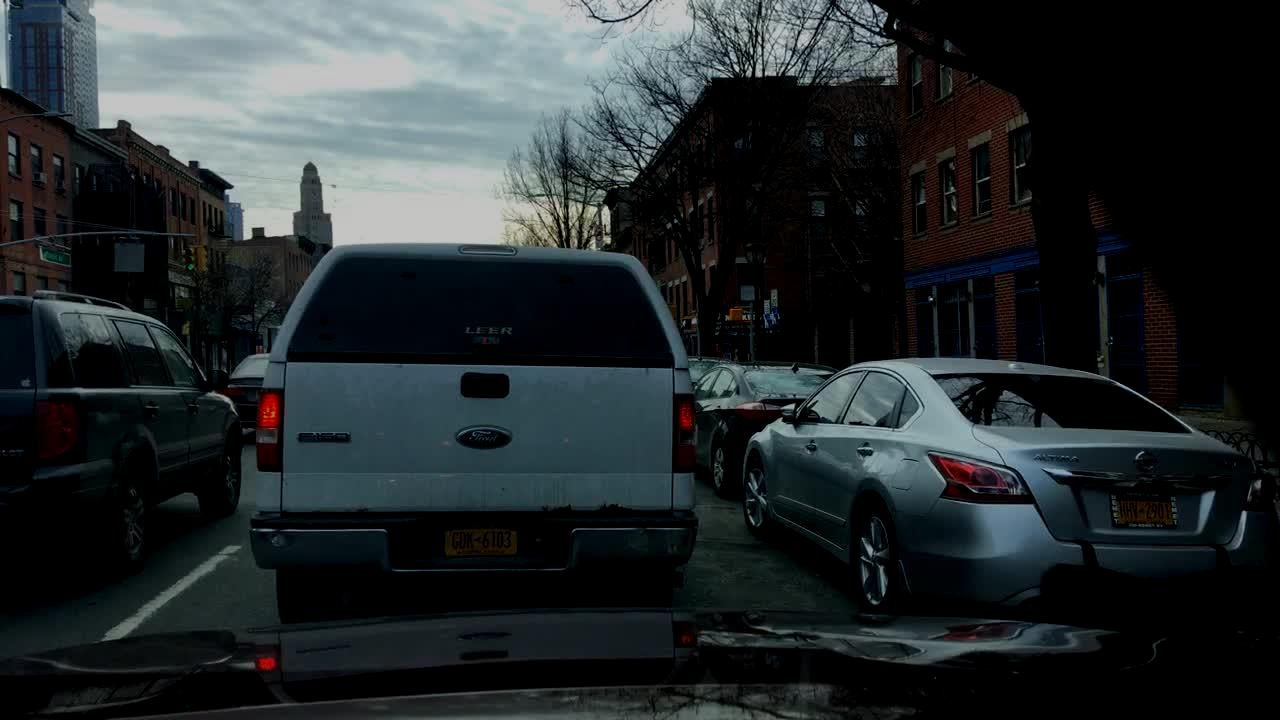Nissan: (1129, 447, 1162, 474)
ford: (456, 423, 517, 459)
